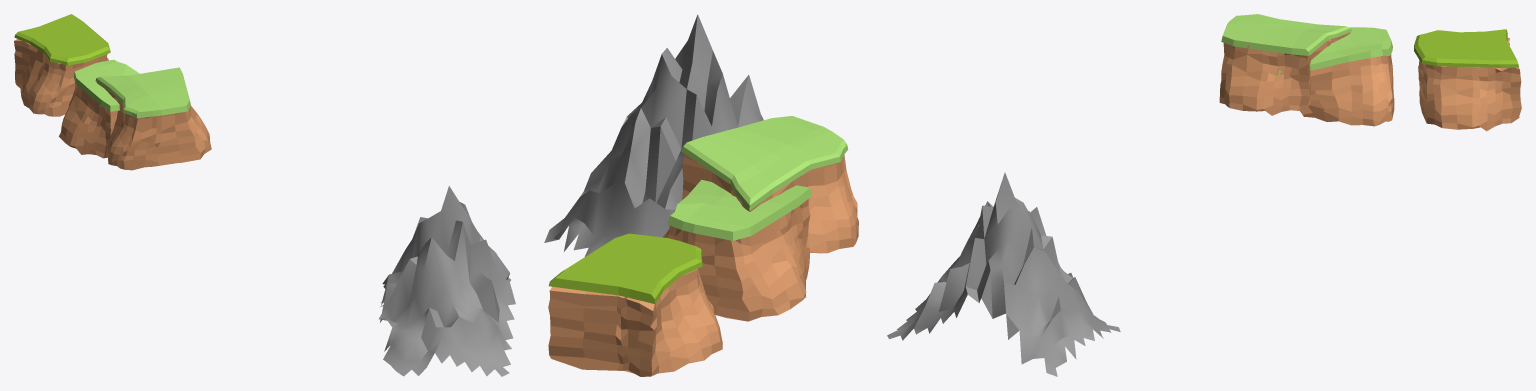
The model's file is Mountains.fbx.
3 views of the same model, side by side, from view 1: azimuth 30°, elevation 25°; view 2: azimuth 150°, elevation 25°; view 3: azimuth 270°, elevation 25° (orthographic). The views are drawn at different scales.
Visible parts, largest first — view 1: Plane.003, Plane.004, Plane.002, Plane.005, Plane.001; view 2: Plane.003, Plane.004, Plane.002, Plane.005, Plane.001; view 3: Plane.003, Plane.004, Plane.005, Plane.002, Plane.001.
Part boxes in pixels (bbox=[...]): Plane.003: bbox=[379, 186, 515, 376]; Plane.004: bbox=[59, 82, 211, 170]; Plane.002: bbox=[73, 59, 190, 118]; Plane.005: bbox=[14, 39, 108, 116]; Plane.001: bbox=[14, 14, 110, 65]; Plane.003: bbox=[544, 14, 763, 256]; Plane.004: bbox=[663, 144, 858, 321]; Plane.002: bbox=[667, 116, 848, 240]; Plane.005: bbox=[548, 269, 722, 376]; Plane.001: bbox=[548, 233, 702, 303]; Plane.003: bbox=[887, 172, 1120, 376]; Plane.004: bbox=[1219, 32, 1394, 126]; Plane.005: bbox=[1418, 38, 1521, 131]; Plane.002: bbox=[1221, 14, 1392, 75]; Plane.001: bbox=[1414, 29, 1518, 67].
Size of the model in its own units: 8293 by 5245 by 13864.
